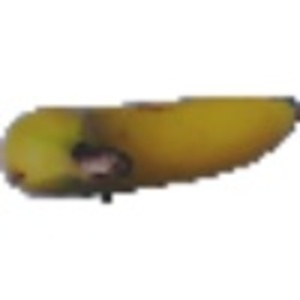banana: (5, 93, 296, 205)
